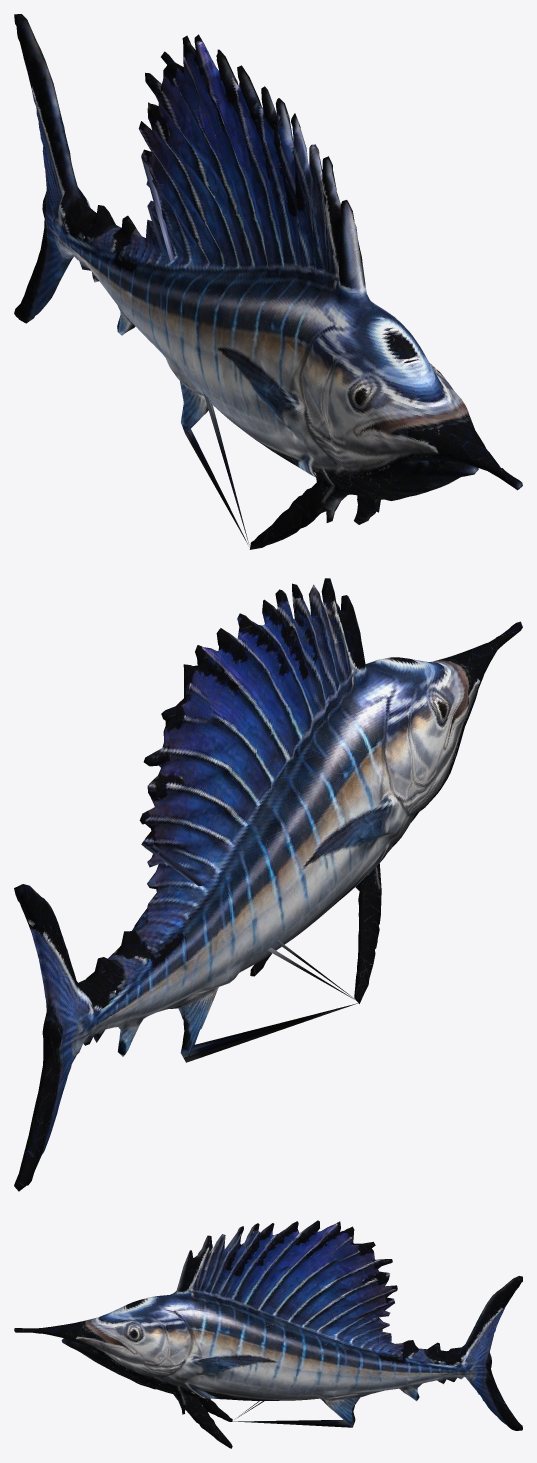
Rendered from fish_sail.glb.
3 views of the same model, one above another, from view 1: azimuth 30°, elevation 25°; view 2: azimuth 150°, elevation 25°; view 3: azimuth 270°, elevation 25° (orthographic). The views are drawn at different scales.
Visible parts, largest first — view 1: geometry_0; view 2: geometry_0; view 3: geometry_0.
Boxes of the visible parts, x1,y1,x2,y2 form: geometry_0: [14, 14, 522, 549]; geometry_0: [14, 578, 522, 1191]; geometry_0: [14, 1220, 522, 1448].
Size of the model in its own units: 0.2518 by 0.9117 by 1.95.
Materials: 1 (1 with a texture image).
